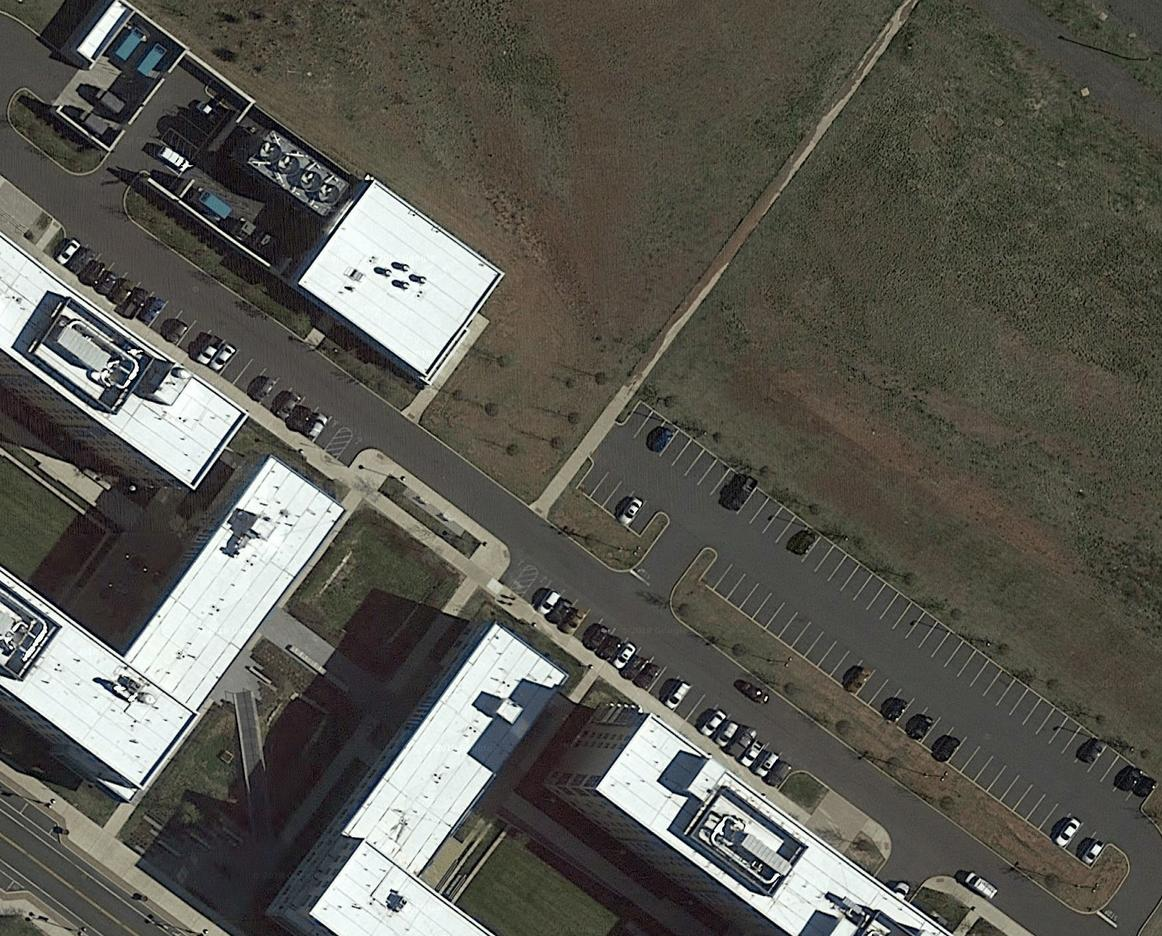parkingspot: (617, 399, 1160, 813), (698, 551, 1113, 871), (51, 230, 348, 453), (519, 571, 801, 792), (575, 459, 662, 539), (165, 85, 234, 152), (138, 136, 193, 193), (335, 431, 369, 470)
